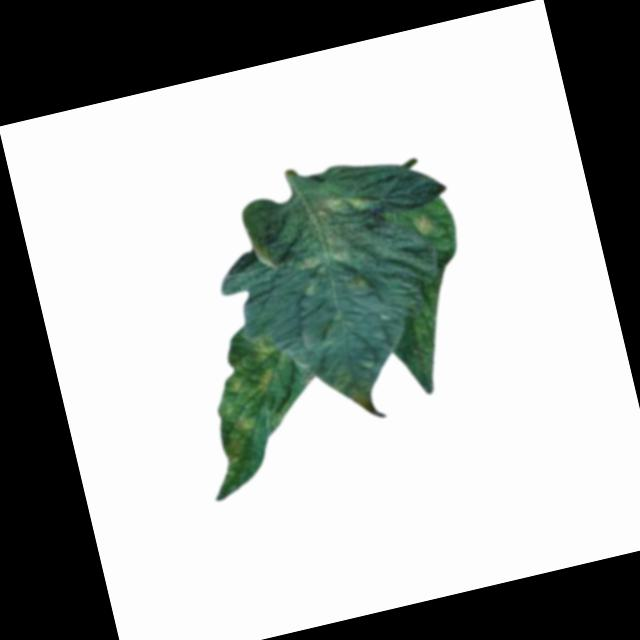Leaf_Mold: (198, 326, 313, 487), (280, 184, 386, 277), (407, 209, 437, 241)
